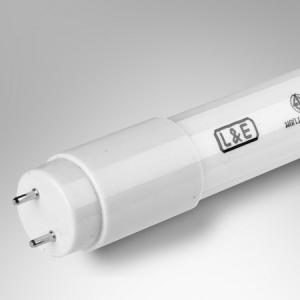Light_bulb: (12, 64, 300, 268)
